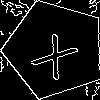X: (30, 24, 86, 81)
